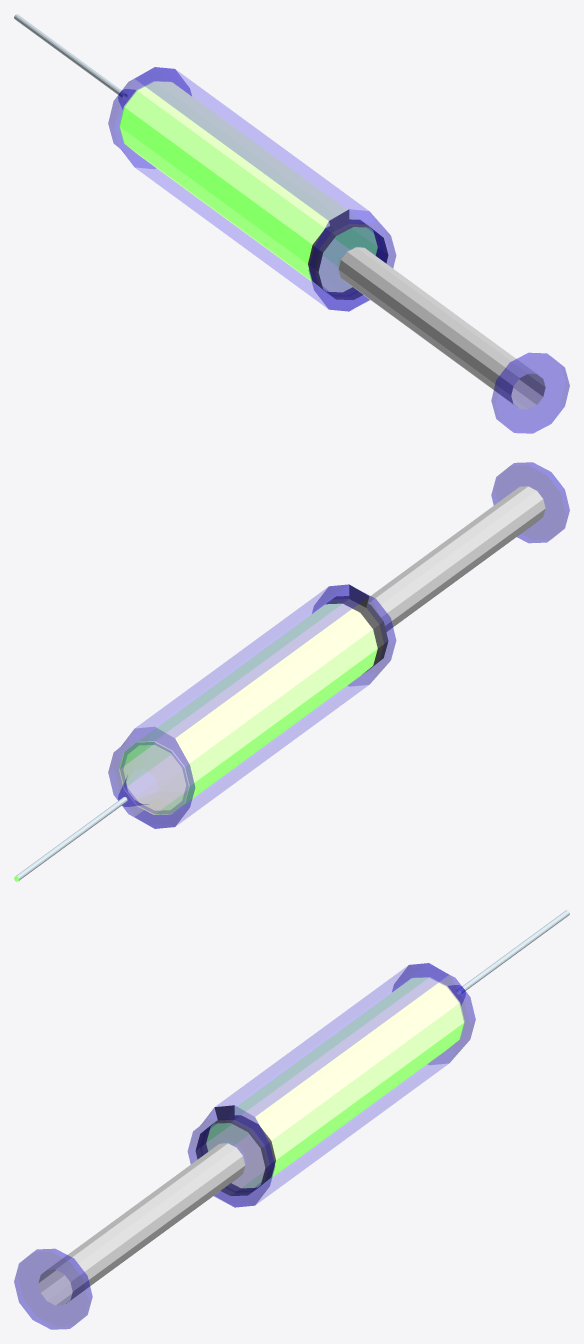
The model's file is syringe.glb.
3 views of the same model, one above another, from view 1: azimuth 30°, elevation 25°; view 2: azimuth 150°, elevation 25°; view 3: azimuth 330°, elevation 25° (orthographic).
Parts seen in each view (by area): view 1: Syringe; view 2: Syringe; view 3: Syringe.
Part boxes in pixels (x1,y1,x2,y2): Syringe: (14,14,569,433); Syringe: (14,462,569,881); Syringe: (14,910,569,1329).
Bounding box in the file's own units: 0.0342 × 0.0412 × 0.3766.
